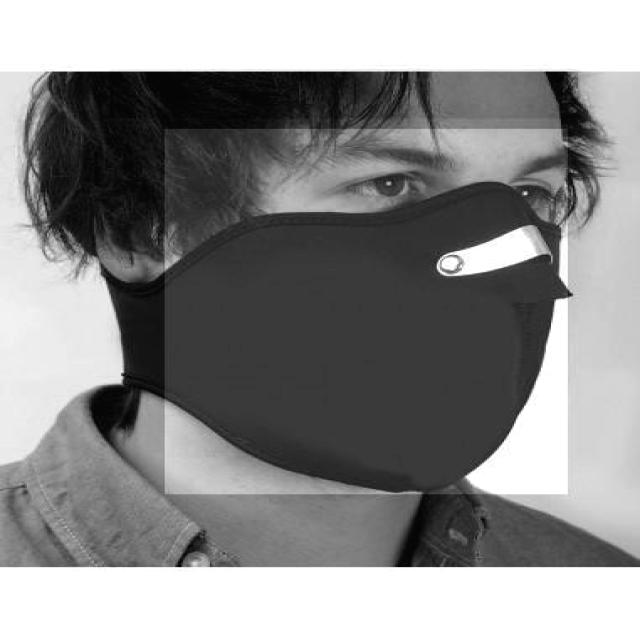face_mask: (165, 128, 570, 496)
head_nohelmet: (109, 69, 581, 120)
